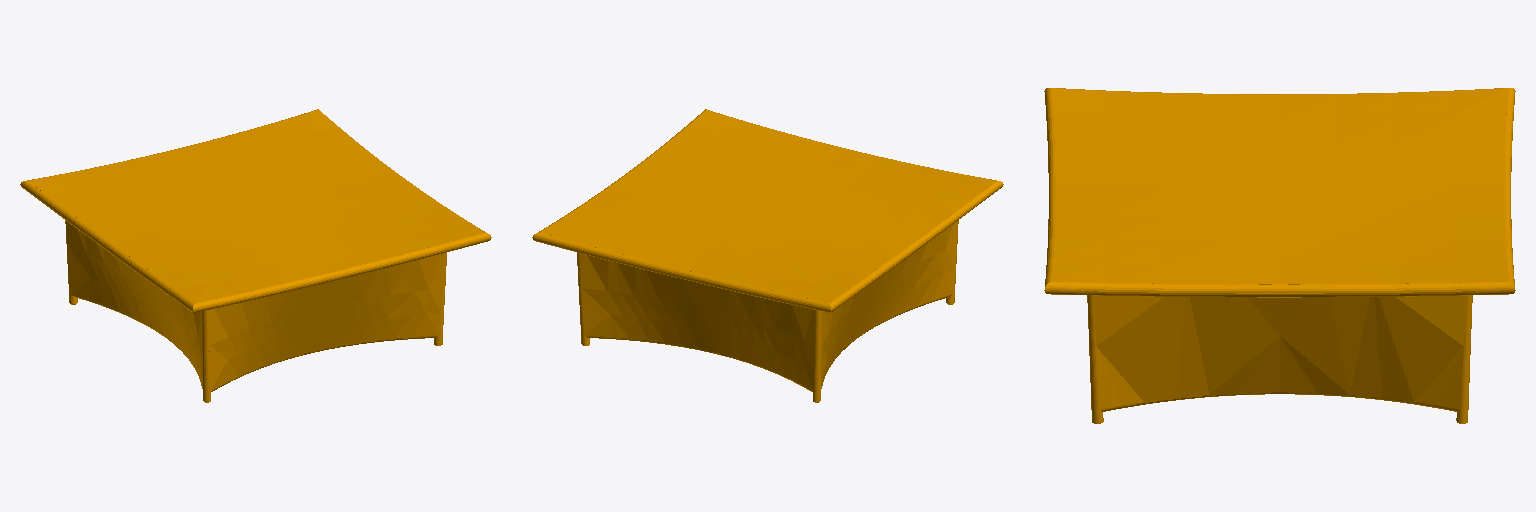
robot.urdf — 9ad91992184e2b3e283b00891f680579:
<?xml version="1.0" ?>
<robot name="9ad91992184e2b3e283b00891f680579" version="1.0">
  <link name="base_link">
    <inertial>
      <origin rpy="0.0 0.0 0.0" xyz="0.0 0.0 0.0"/>
      <mass value="24.060084172600476"/>
      <inertia ixx="0.001" ixy="0.0" ixz="0.0" iyy="0.001" iyz="0.0" izz="0.001"/>
    </inertial>
    <visual name="9ad91992184e2b3e283b00891f680579___1">
      <origin rpy="0.0 0.0 0.0" xyz="0.0 -0.0 0.0"/>
      <geometry>
        <mesh filename="shape/visual/9ad91992184e2b3e283b00891f680579_m1_vm.obj"/>
      </geometry>
    </visual>
    <visual name="9ad91992184e2b3e283b00891f680579___2">
      <origin rpy="0.0 0.0 0.0" xyz="0.0 -0.0 0.0"/>
      <geometry>
        <mesh filename="shape/visual/9ad91992184e2b3e283b00891f680579_m2_vm.obj"/>
      </geometry>
    </visual>
    <collision>
      <origin rpy="0.0 0.0 0.0" xyz="0.0 -0.0 0.0"/>
      <geometry>
        <mesh filename="shape/collision/9ad91992184e2b3e283b00891f680579_cm.obj"/>
      </geometry>
    </collision>
  </link>
</robot>

--- What the picture shows (computed from the rendered views, not written in the file) ---
The picture shows the robot from 3 angles, left to right: view 1: azimuth 30°, elevation 25°; view 2: azimuth 150°, elevation 25°; view 3: azimuth 270°, elevation 25°; orthographic projection.
Model 9ad91992184e2b3e283b00891f680579 with 1 links and 0 joints (none), rooted at base_link, posed all joints at 0.
Visible links, largest first — view 1: base_link; view 2: base_link; view 3: base_link.
Link boxes in pixels (x1,y1,x2,y2): base_link: [20, 109, 491, 402]; base_link: [532, 109, 1003, 402]; base_link: [1044, 88, 1515, 423].
Size in the robot's own frame: 0.6832 by 0.6832 by 0.2577 metres.
2 mesh visuals loaded from 2 distinct referenced files (2 OBJ).
